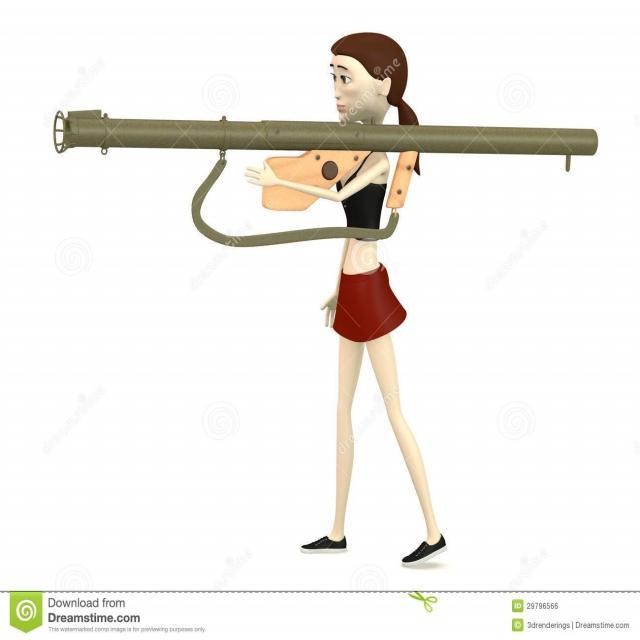rocket launcher: (46, 101, 603, 170)
